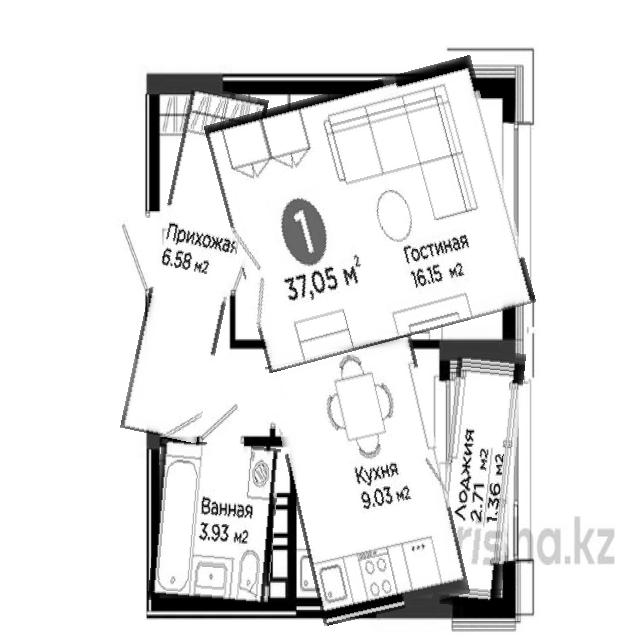balcony: (439, 349, 519, 608)
bathroom: (151, 442, 278, 608)
hallway: (138, 86, 252, 441)
kitchen: (279, 340, 457, 620)
living_room: (218, 71, 522, 357)
